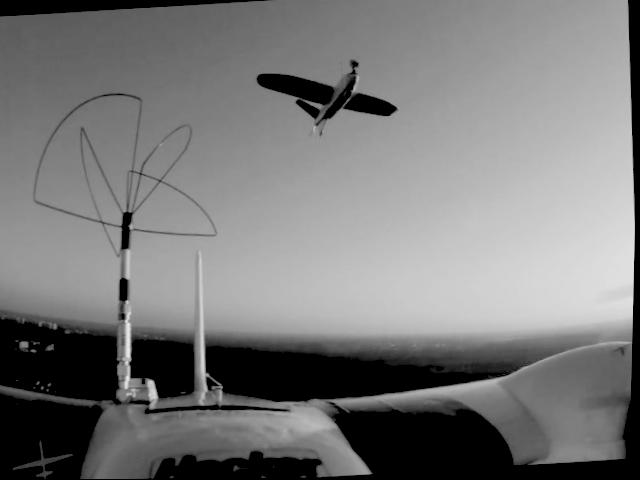hedef: (244, 43, 412, 147)
